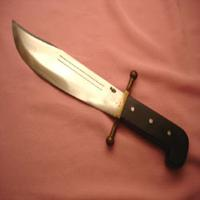knife: (7, 15, 189, 156)
